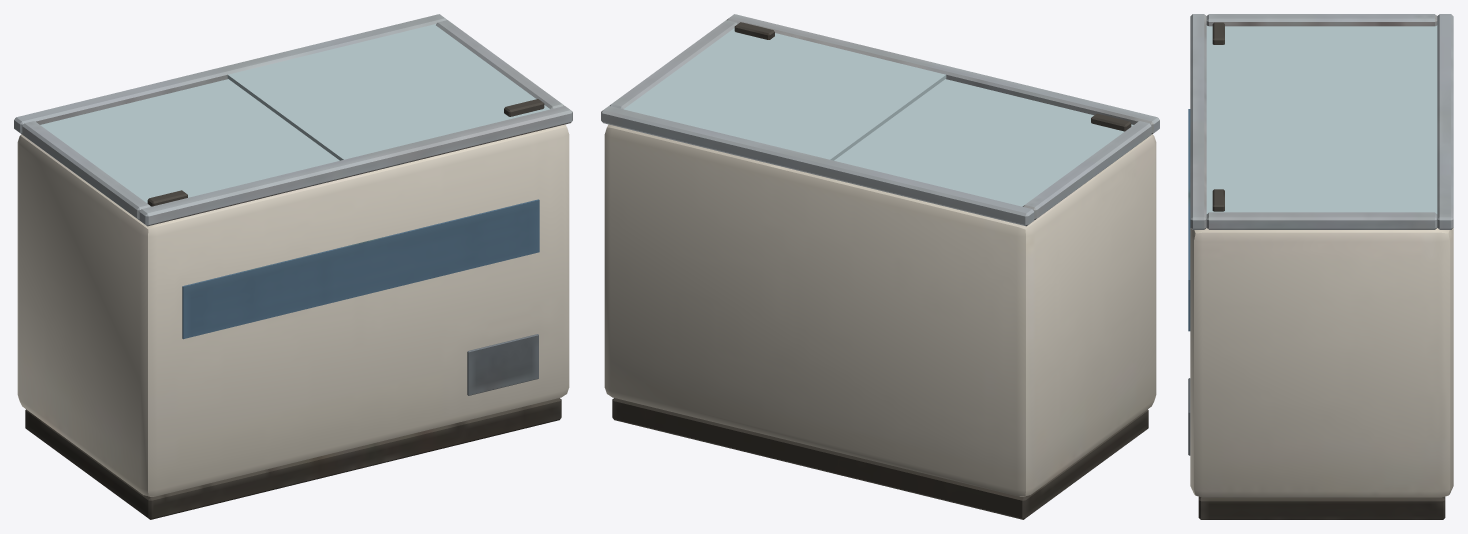
The model's file is freezer_chest.glb.
3 views of the same model, side by side, from view 1: azimuth 30°, elevation 25°; view 2: azimuth 150°, elevation 25°; view 3: azimuth 270°, elevation 25° (orthographic).
Visible parts, largest first — view 1: freezer_chest; view 2: freezer_chest; view 3: freezer_chest.
Boxes of the visible parts, <box> form: freezer_chest: <box>14,14,572,519</box>; freezer_chest: <box>601,14,1159,519</box>; freezer_chest: <box>1188,14,1453,519</box>.
Size of the model in its own units: 1.2 by 0.846 by 0.655.
Materials: 6 (5 with a texture image).
